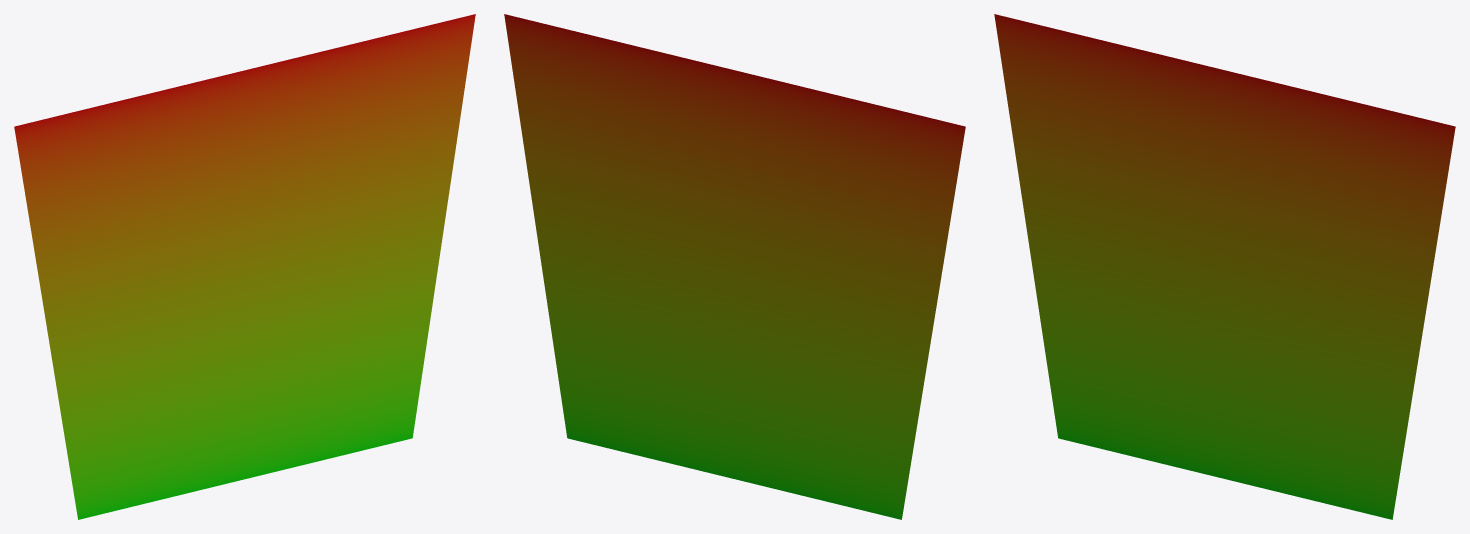
Rendered from Rough Meadow Grass_LOD3_Var4_skFjJ.fbx.
The picture shows the model from 3 angles, left to right: view 1: azimuth 30°, elevation 25°; view 2: azimuth 150°, elevation 25°; view 3: azimuth 330°, elevation 25°; orthographic projection.
Visible parts, largest first — view 1: _bb1a_Var4_LOD3; view 2: _bb1a_Var4_LOD3; view 3: _bb1a_Var4_LOD3.
Part boxes in pixels (box(x1,y1,x2,y2)): _bb1a_Var4_LOD3: box(14, 14, 475, 519); _bb1a_Var4_LOD3: box(504, 14, 965, 519); _bb1a_Var4_LOD3: box(994, 14, 1455, 519).
Size of the model in its own units: 61.05 by 51.68 by 6.75e-06.
